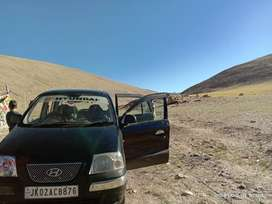JK02ACB876: (24, 185, 78, 199)
